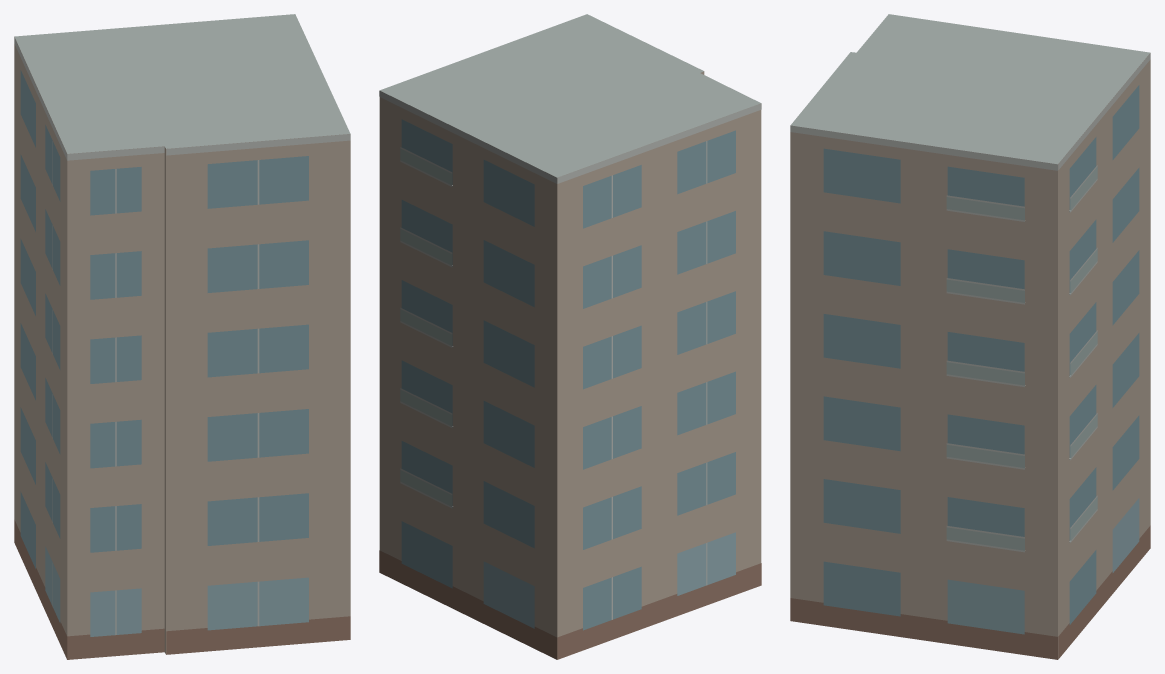
The model's file is survey-upis-32728340.glb.
3 views of the same model, side by side, from view 1: azimuth 30°, elevation 25°; view 2: azimuth 150°, elevation 25°; view 3: azimuth 270°, elevation 25° (orthographic). The views are drawn at different scales.
Visible parts, largest first — view 1: survey-upis-32728340.tmp; view 2: survey-upis-32728340.tmp; view 3: survey-upis-32728340.tmp.
Part boxes in pixels (left/top/right/bottom): survey-upis-32728340.tmp: left=14, top=14, right=350, bottom=659; survey-upis-32728340.tmp: left=379, top=14, right=761, bottom=659; survey-upis-32728340.tmp: left=790, top=14, right=1150, bottom=659.
Bounding box in the file's own units: 11.98 × 18.4 × 12.13.
